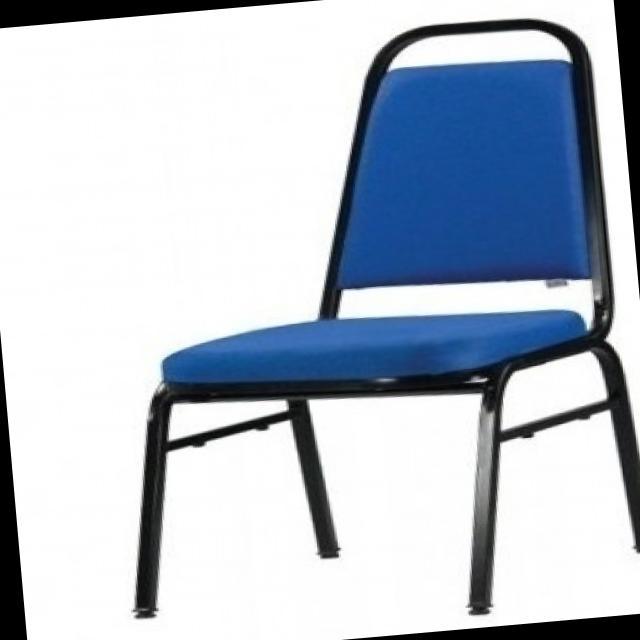Chair: (83, 5, 640, 640)
